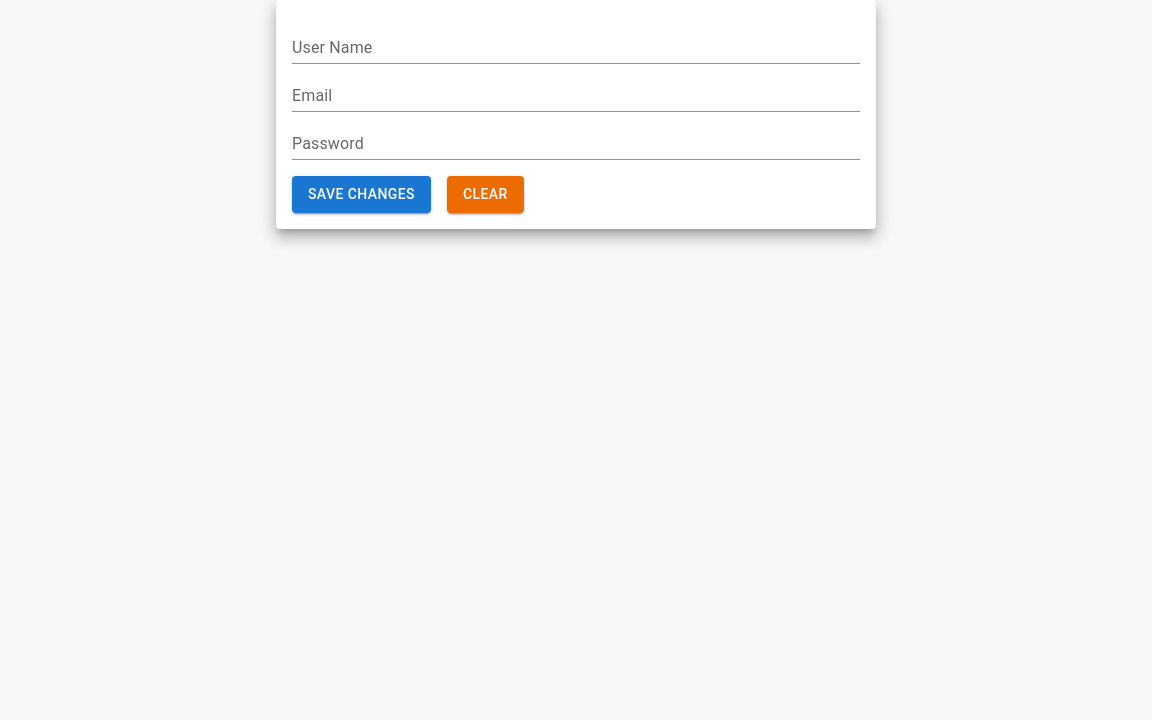
Test: <UserPage /> component › should be possible to submit the form
The image size is (1152, 720).
In the field labelled "User Name": [576, 48] box [292,32,860,64], type "John Doe"
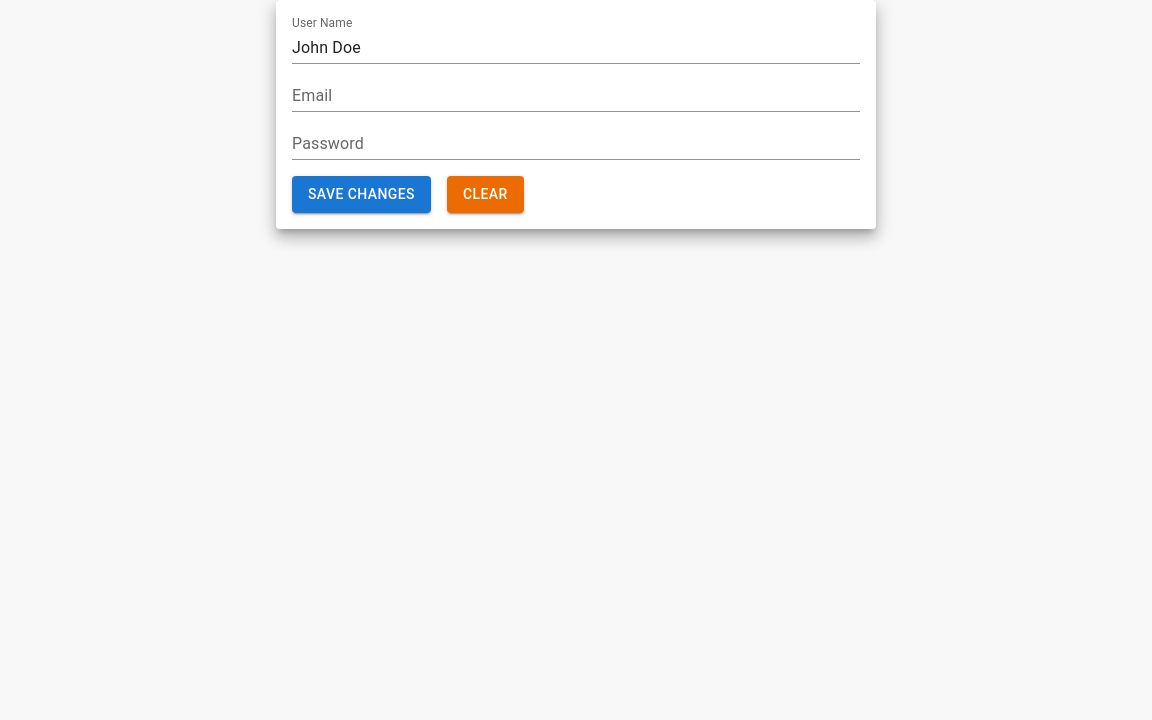
In the field labelled "Email": [576, 96] box [292,80,860,112], type "John@gmail.com"
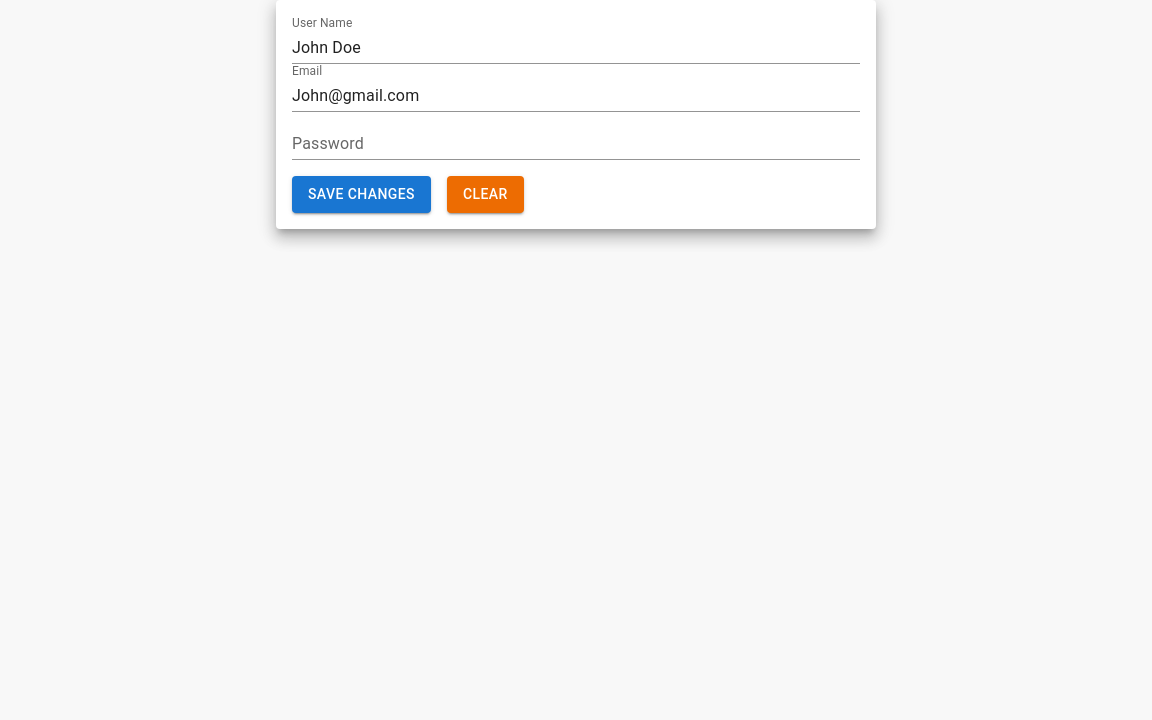
In the password field labelled "Password": [576, 144] box [292,128,860,160], type "johndoe2345"
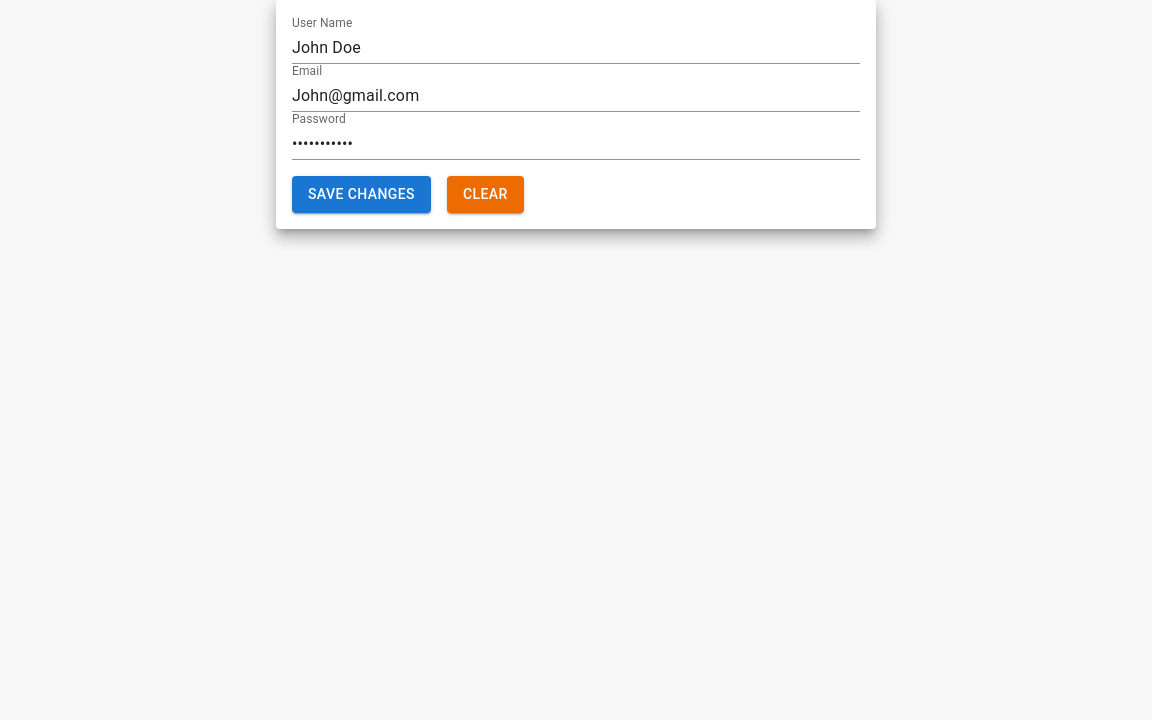
Click the button with test id "submit-btn": [361, 194] box [292,176,431,212]
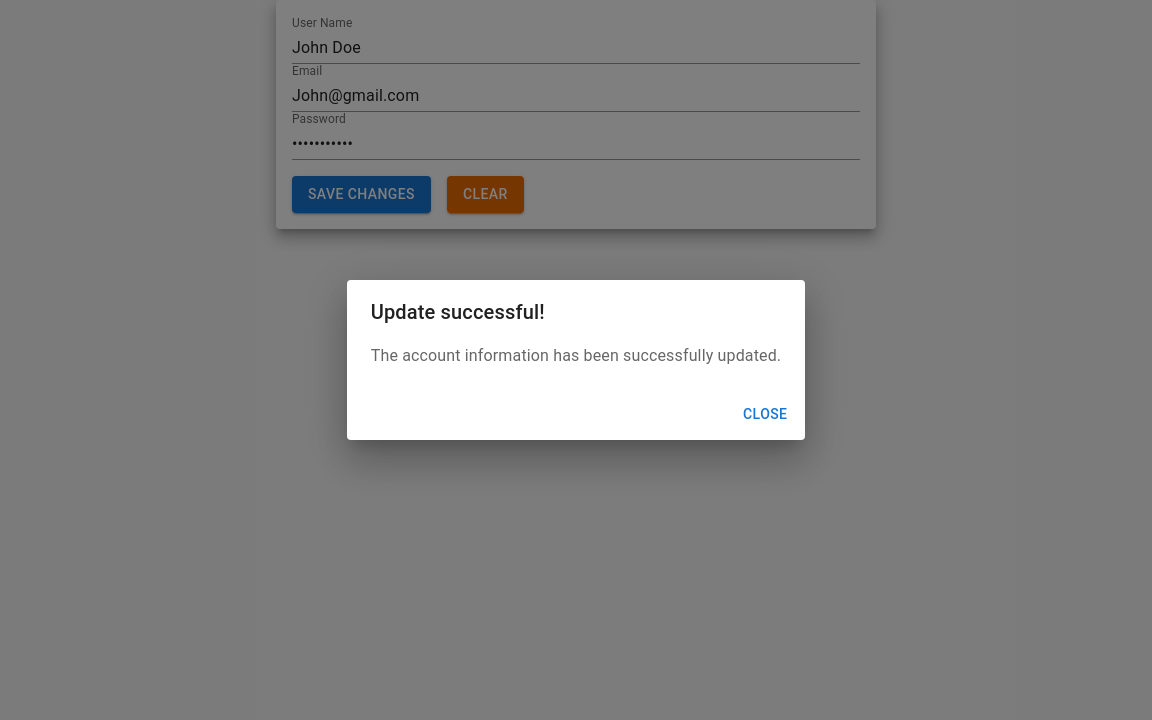
Check: the element with test id "dialog" is shown
